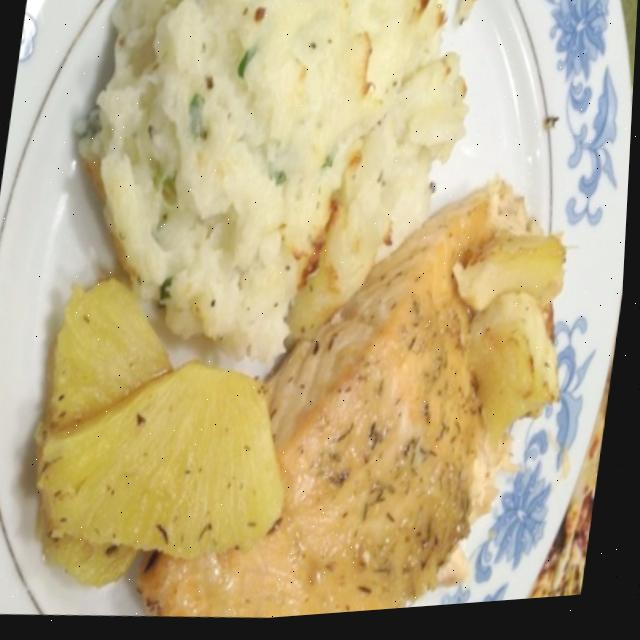熟制海鲜: (89, 110, 634, 633)
